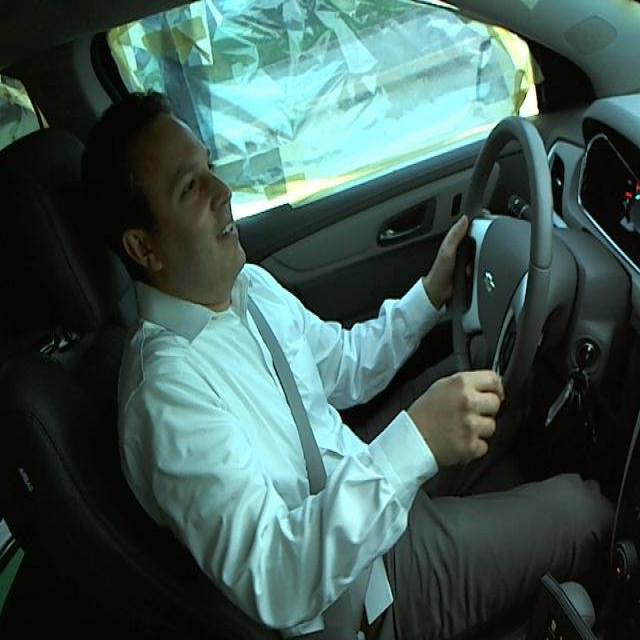seatbelt: (241, 305, 394, 631)
